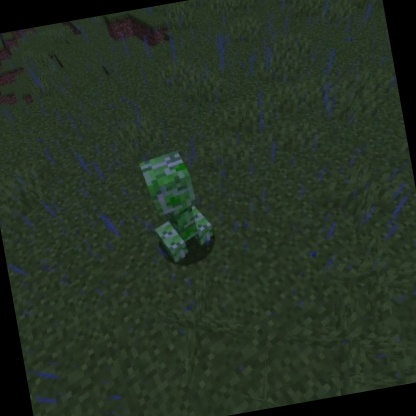creeper: (133, 143, 222, 271)
